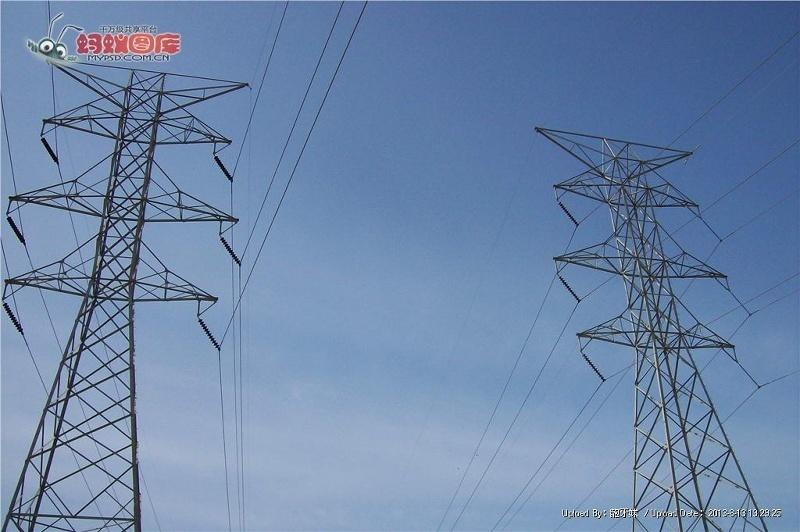power_tower: (2, 51, 260, 528), (530, 116, 774, 529)
